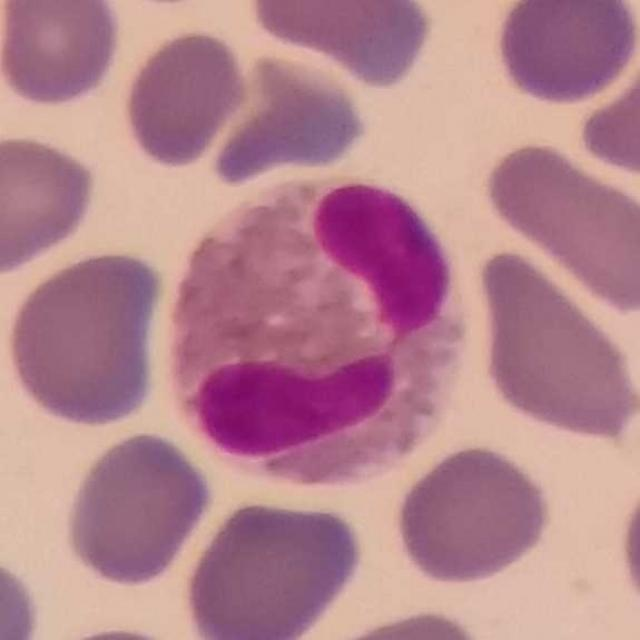eosino: (170, 174, 469, 492)
